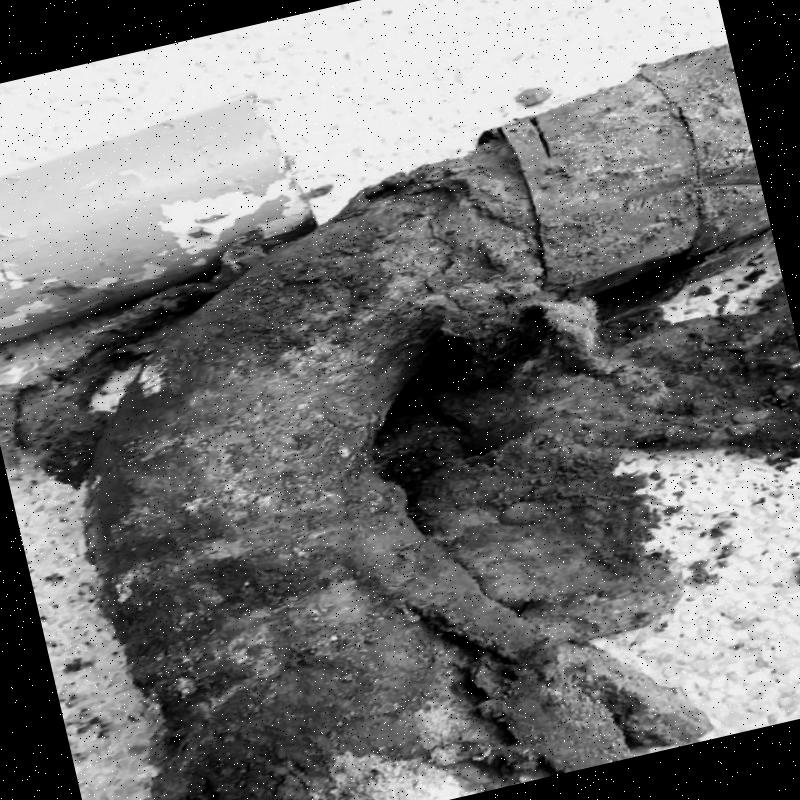corrosion: (73, 157, 568, 800)
